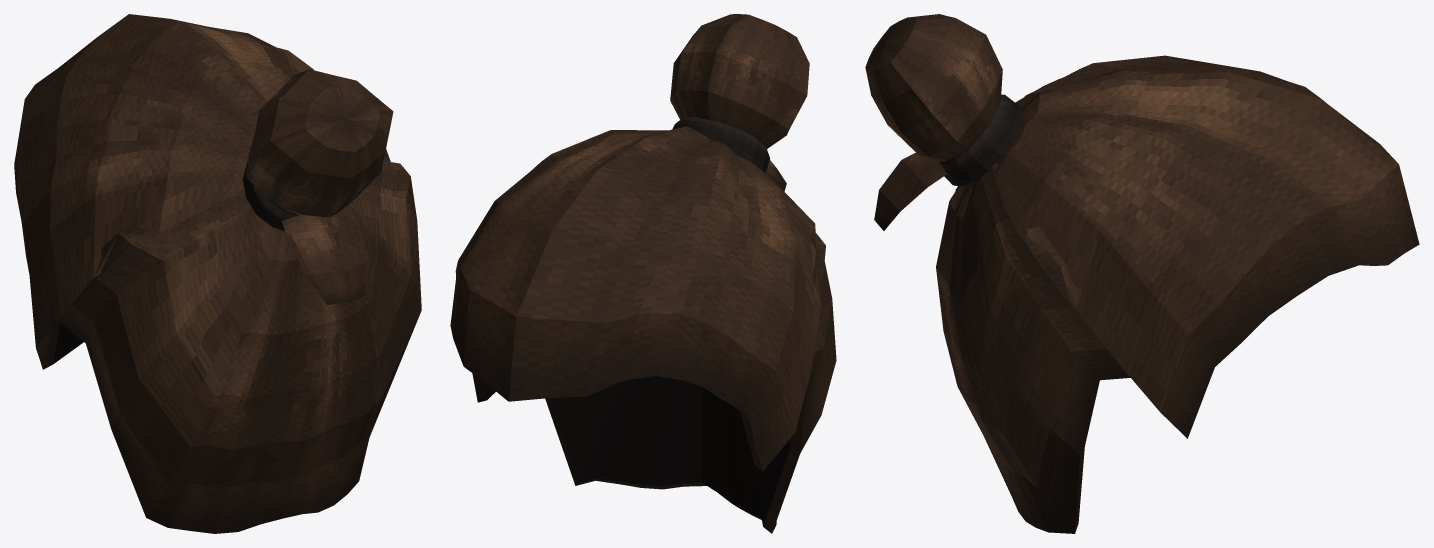
File: CoqueSamuraiMasculino.glb
3 views of the same model, side by side, from view 1: azimuth 30°, elevation 25°; view 2: azimuth 150°, elevation 25°; view 3: azimuth 270°, elevation 25° (orthographic). The views are drawn at different scales.
Parts seen in each view (by area): view 1: CoqueSamuraiMasculino.001; view 2: CoqueSamuraiMasculino.001; view 3: CoqueSamuraiMasculino.001.
Boxes of the visible parts, x1=… form: CoqueSamuraiMasculino.001: x1=14, y1=14, x2=421, y2=533; CoqueSamuraiMasculino.001: x1=450, y1=14, x2=836, y2=533; CoqueSamuraiMasculino.001: x1=865, y1=14, x2=1419, y2=533.
Size of the model in its own units: 0.1825 by 0.2428 by 0.2569.
Materials: 1 (1 with a texture image).
